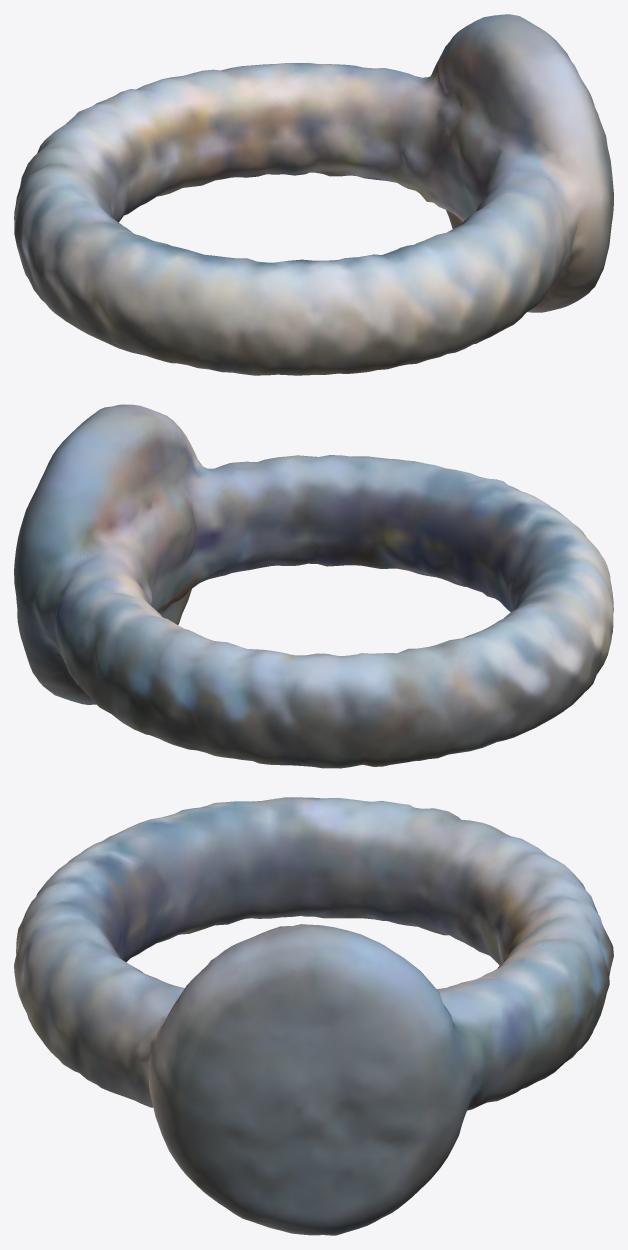
Rendered from ring.glb.
The picture shows the model from 3 angles, top to bottom: view 1: azimuth 30°, elevation 25°; view 2: azimuth 150°, elevation 25°; view 3: azimuth 270°, elevation 25°; orthographic projection. The views are drawn at different scales.
Visible parts, largest first — view 1: Mesh1; view 2: Mesh1; view 3: Mesh1.
Part boxes in pixels (x1,y1,x2,y2): Mesh1: [14, 14, 613, 375]; Mesh1: [14, 404, 613, 768]; Mesh1: [14, 797, 613, 1235].
Bounding box in the file's own units: 1.2 × 0.6168 × 1.12.
Materials: 1 (1 with a texture image).
